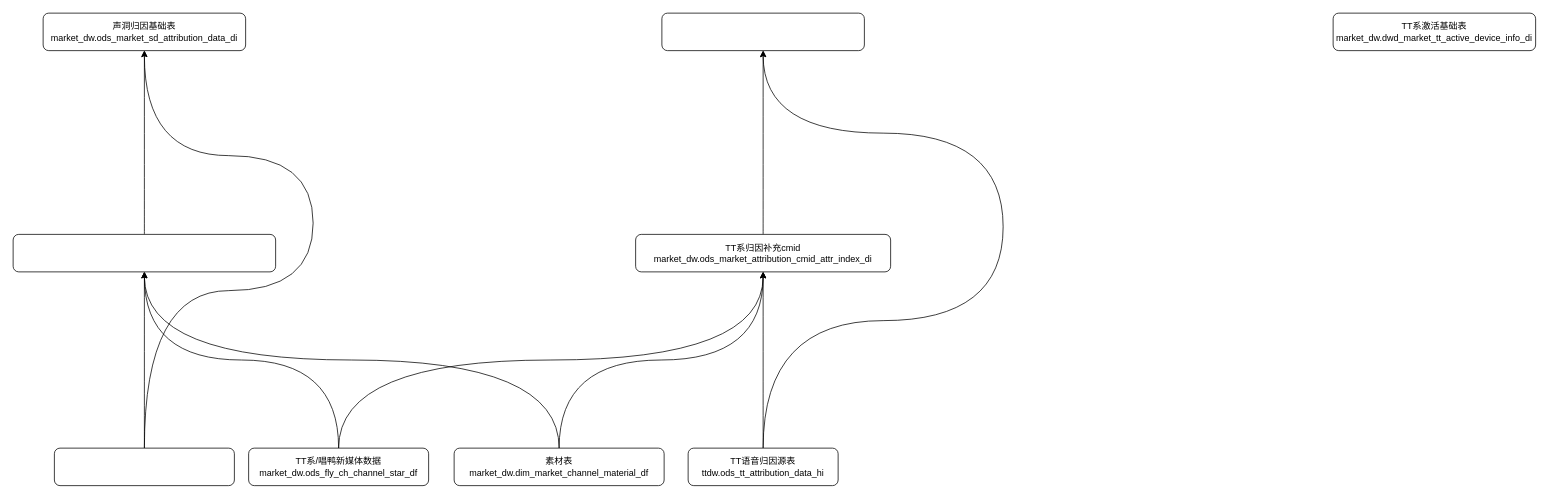
Some shapes in this 1549 by 499 pixel diagram are drawn without their labels. The shapes that lost their labels are listed below. From the top down, each one's centre as x and y in pixels, then its label:
the point at 762,31: TT系归因基础表 market_dw.ods_market_attribution_data_di
the point at 144,253: 声洞归因补充cmid market_dw.ods_market_sd_attribution_cmid_attr_index_di
the point at 144,466: 声洞归因源表 sddw.ods_sd_attribution_data_hi
